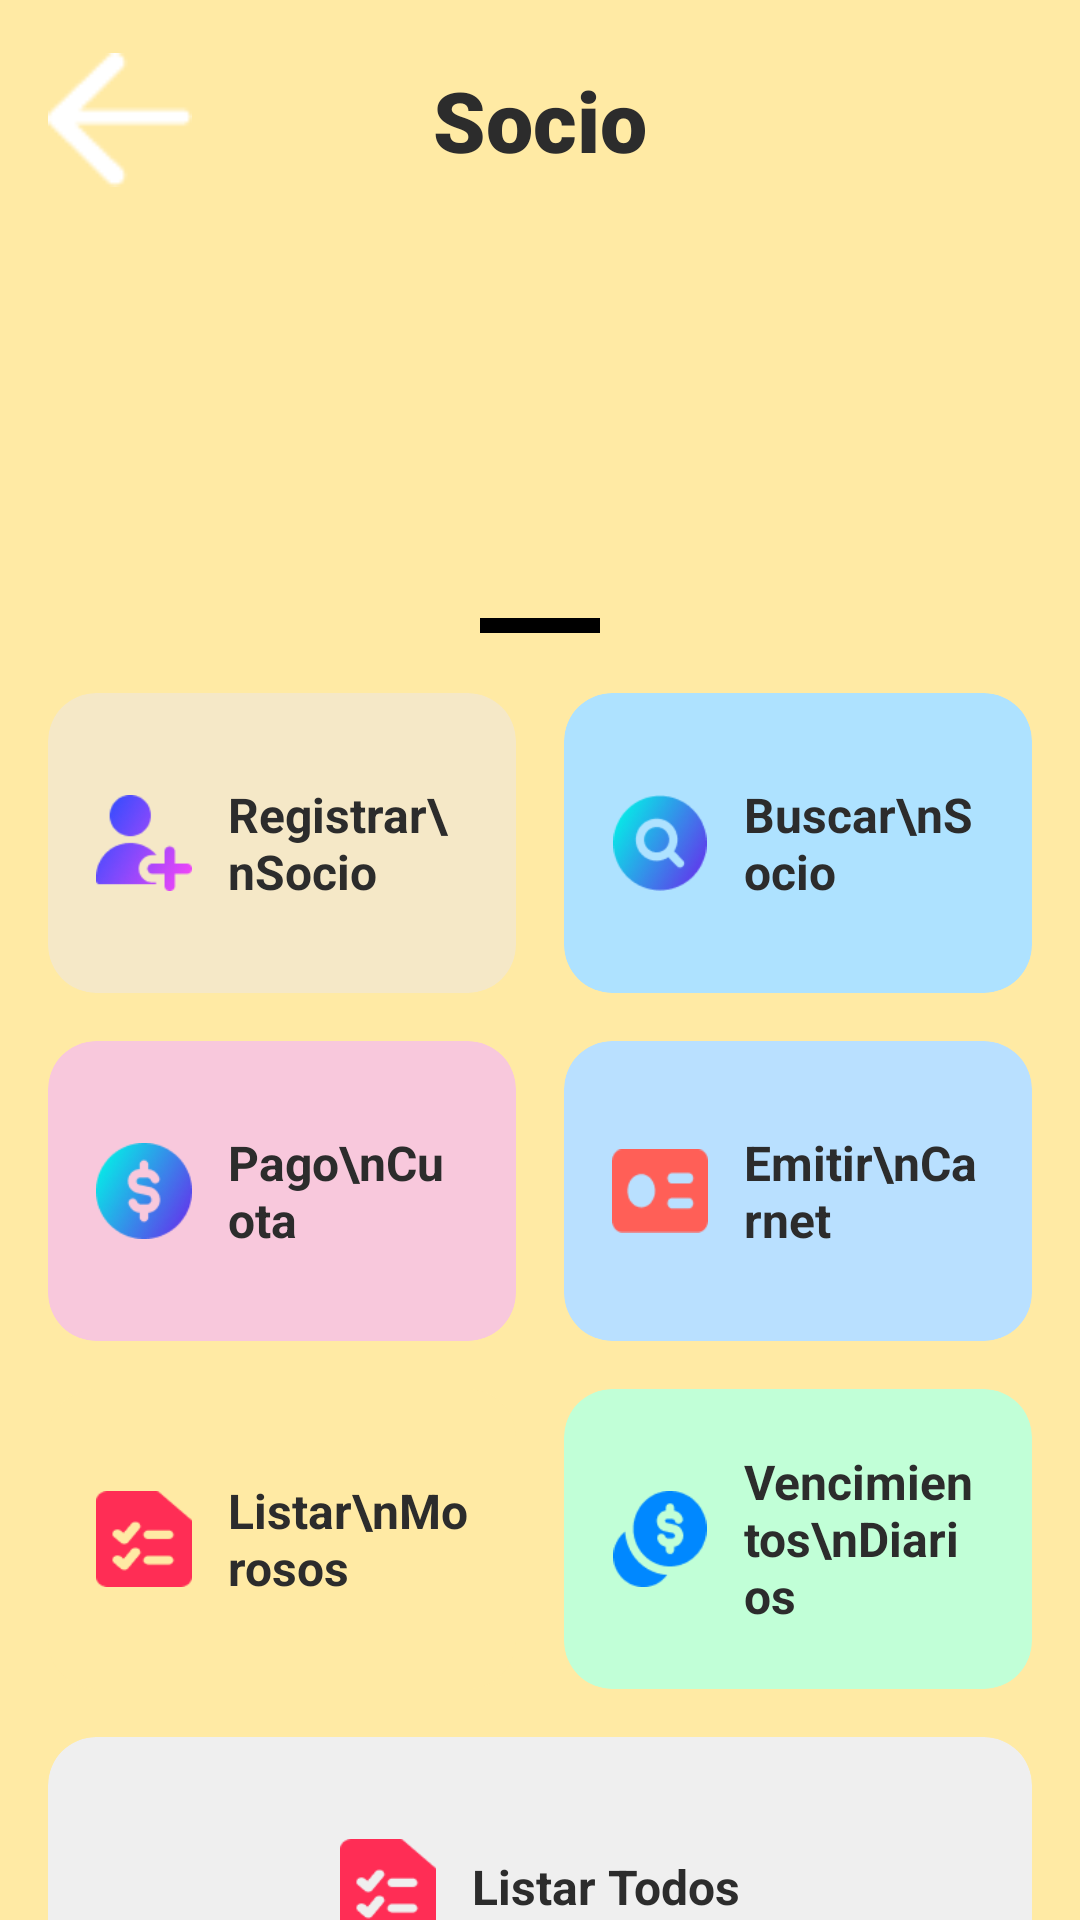

Icon click points for this 1080×1920 phone screenshot, format [x,y]:
atras: [120,119]
